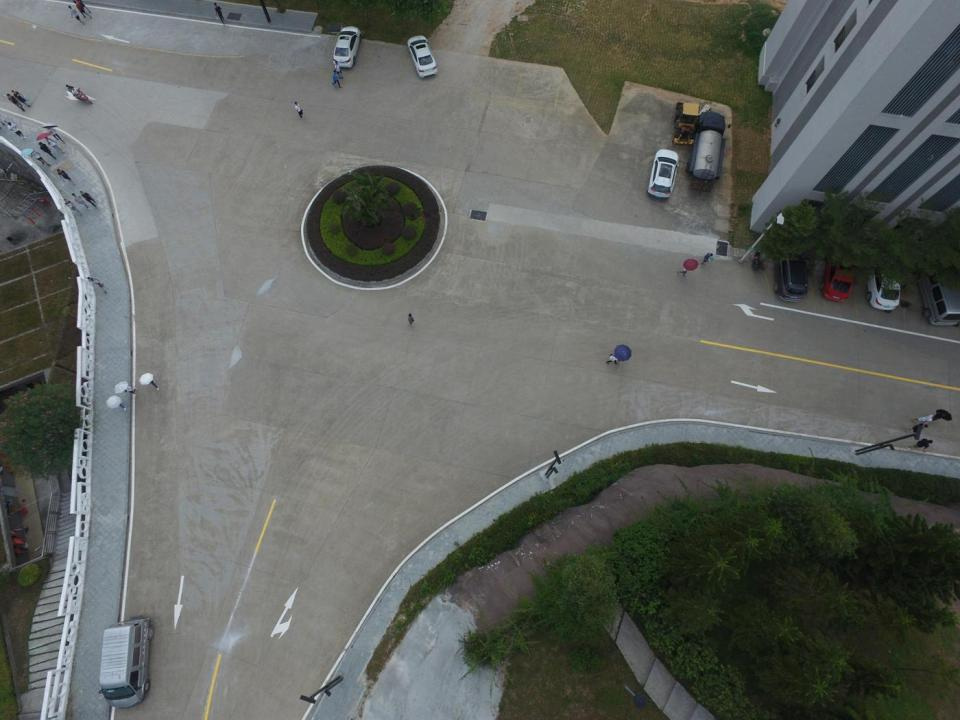car: (912, 258, 959, 326), (773, 239, 809, 301), (820, 243, 854, 302), (866, 255, 901, 311), (646, 149, 678, 199), (407, 35, 438, 77), (333, 26, 362, 69)
truck: (686, 111, 731, 193)
van: (99, 615, 154, 708)
